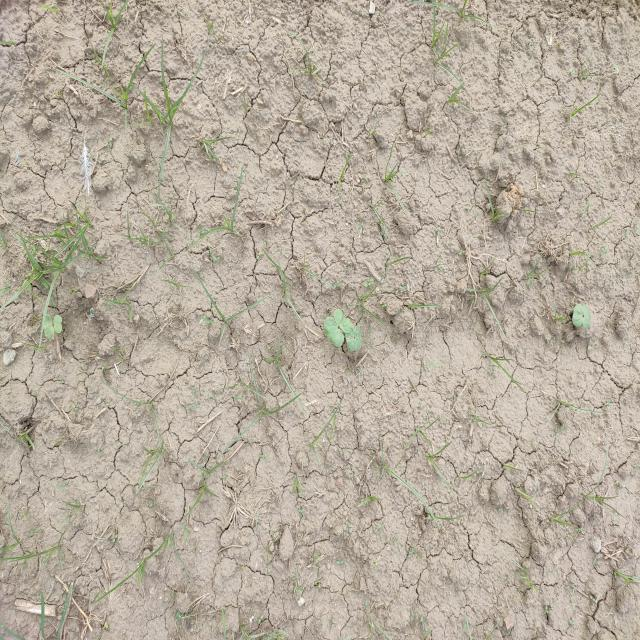seedling: (324, 317, 344, 347), (334, 309, 353, 333), (345, 327, 357, 352), (572, 304, 584, 327), (43, 314, 54, 339), (583, 304, 590, 329), (53, 315, 62, 333), (355, 326, 362, 349)
